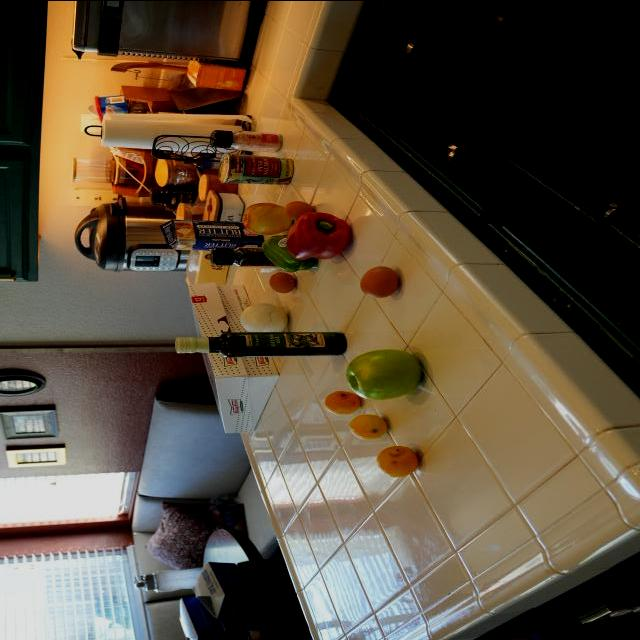bell_pepper: (291, 214, 354, 260), (212, 247, 290, 269), (264, 237, 312, 269)
egg: (347, 264, 407, 298), (270, 272, 299, 294), (284, 200, 312, 219)
onion: (245, 302, 291, 339)
